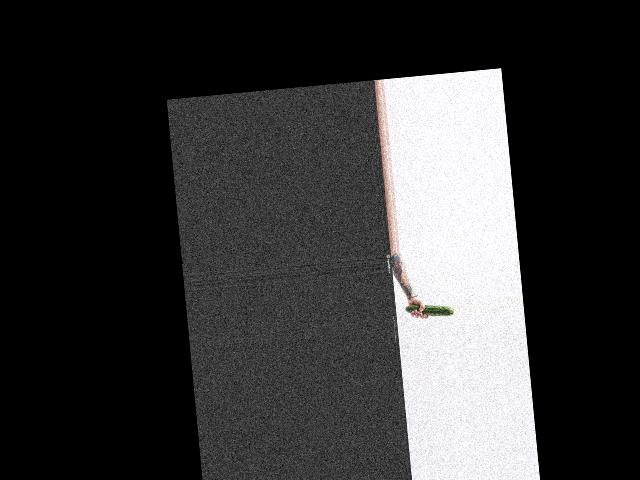cucumber: (405, 301, 454, 320)
